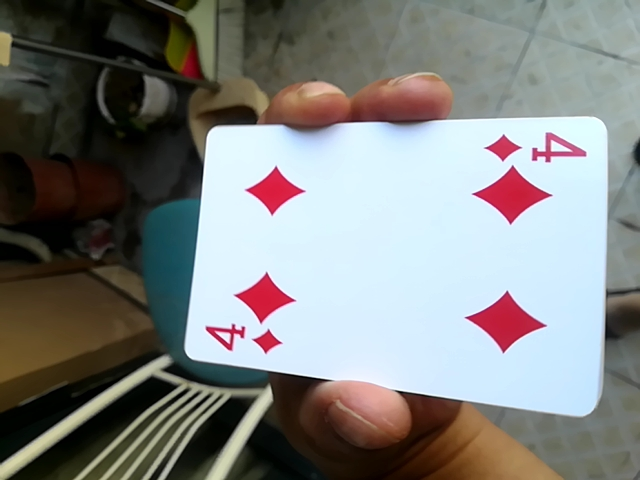fk 4: (175, 114, 614, 412)
